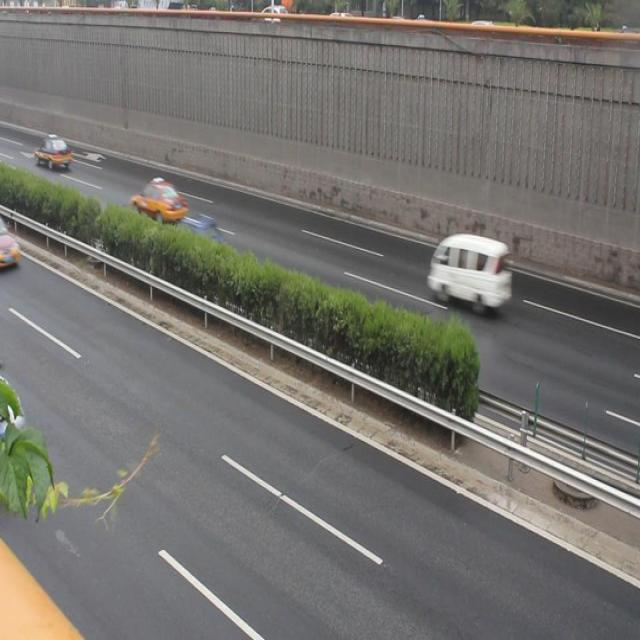car: (162, 214, 224, 262), (130, 180, 186, 223), (1, 230, 21, 269)
truck: (427, 234, 509, 309)
